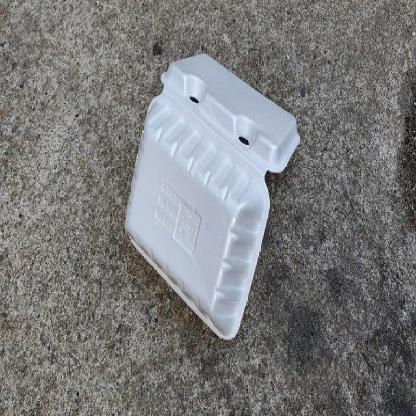Glass Cup: (124, 52, 300, 342), (125, 54, 299, 340)
